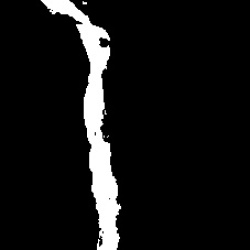crack: (40, 1, 121, 248)
